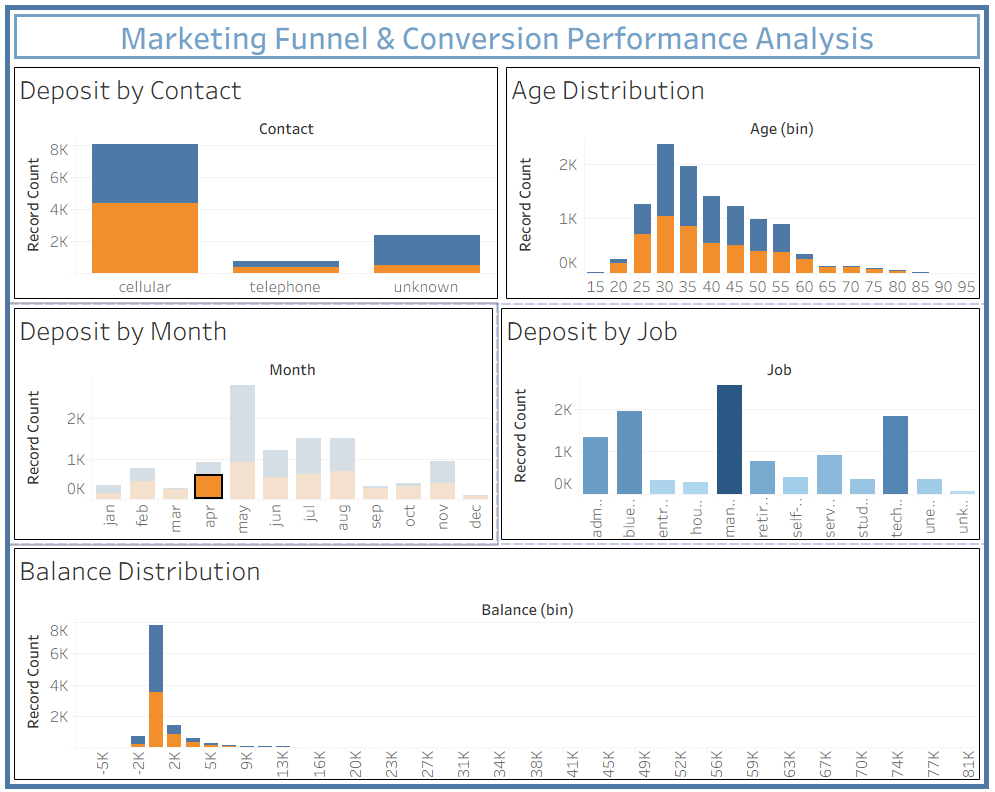

The dashboard page shown, as its layout file describes it:
{"tool":"tableau","page":{"name":"Dashboard 1","canvas":[1000,800],"ordinal":0},"visuals":[{"type":"text","box":[13,13,974,53.3]},{"type":"worksheet","title":"Deposit by Contact","mark":"Automatic","rows":["Calculation_1603665253830658"],"cols":["contact"],"box":[13,66.3,492,240.2]},{"type":"worksheet","title":"Age Distribution","mark":"Automatic","rows":["Calculation_1603665253830658"],"cols":["Age (bin)"],"box":[505,66.3,481.9,240.2]},{"type":"worksheet","title":"Deposit by Month","mark":"Automatic","rows":["Calculation_1603665253830658"],"cols":["month"],"box":[13,306.5,487,240.2]},{"type":"worksheet","title":"Deposit by Job","mark":"Automatic","rows":["Calculation_1603665253830658"],"cols":["job"],"box":[500,306.5,487,240.2]},{"type":"worksheet","title":"Balance Distribution","mark":"Automatic","rows":["Calculation_1603665253830658"],"cols":["Balance (bin)"],"box":[13,546.8,974,240.2]}]}

Visuals, with their boxes in screenshot pixels (x1, y1, x2, y2), scaled from the page's 1000x800 canvas onto the 995x792 screenshot:
text: left=13, top=13, right=982, bottom=66
"Deposit by Contact" worksheet: left=13, top=66, right=502, bottom=303
"Age Distribution" worksheet: left=502, top=66, right=982, bottom=303
"Deposit by Month" worksheet: left=13, top=303, right=498, bottom=541
"Deposit by Job" worksheet: left=498, top=303, right=982, bottom=541
"Balance Distribution" worksheet: left=13, top=541, right=982, bottom=779
